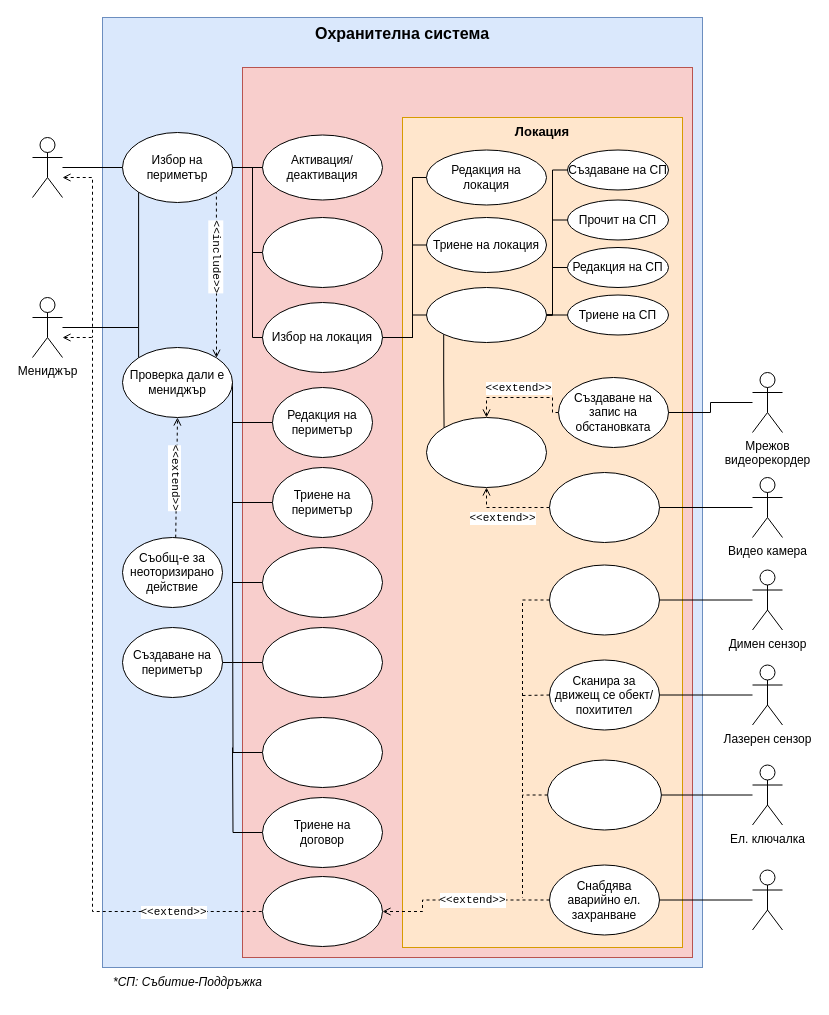
This 829x1015 diagram has some shape labels left out. The box of each missing label's shape, as (x1, y1, x2, y2) in pixels:
Избор на у-во: (426, 286, 546, 342)
Изпращане на алармен сигнал: (262, 876, 382, 946)
Непрекъсваемо захранване: (752, 869, 782, 930)
Охранител: (32, 136, 62, 198)
Охраняван периметър: (242, 66, 692, 958)
Преглед на сключен договор: (262, 546, 382, 618)
Предотвратява пожар: (548, 564, 660, 635)
Редакция на договор: (262, 716, 382, 788)
Смарт управление на ключалките: (547, 759, 661, 830)
Снима обстановката в реално време: (548, 472, 660, 542)
Създаване на договор: (262, 626, 382, 698)
Създаване на локация: (262, 216, 382, 288)
Управление на видео камера: (426, 416, 546, 488)
